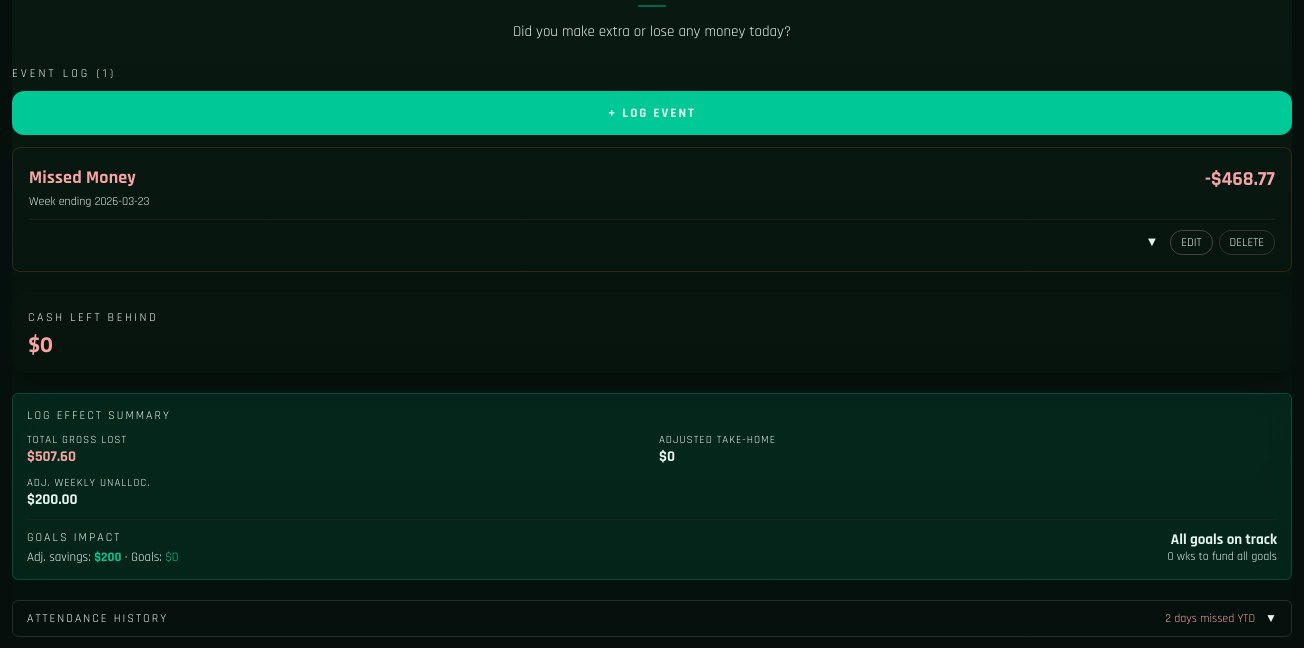
Attendance History — monthly breakdown › shows unapproved hours in the correct format
Click the button "Attendance History 2 days missed YTD ▼" at [98, 618], box [12,600,1292,637]
(page scrolled)
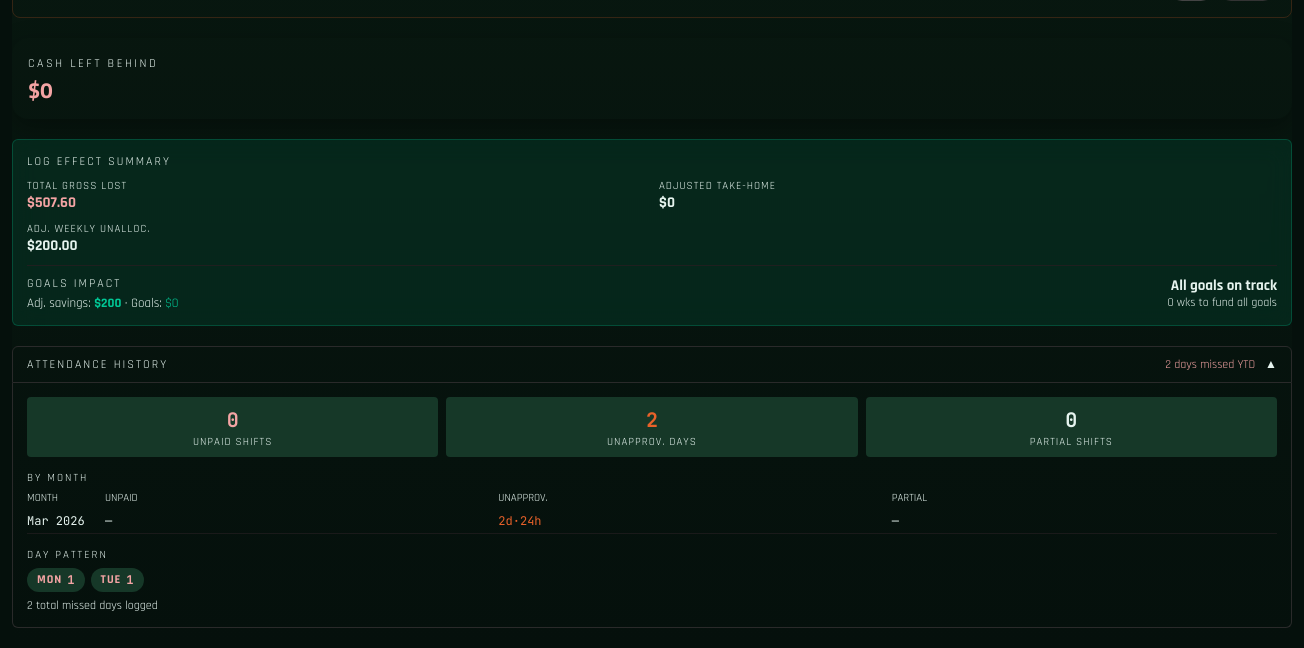
Expected: the text "2d·24h" is shown, [498,513,542,529]
